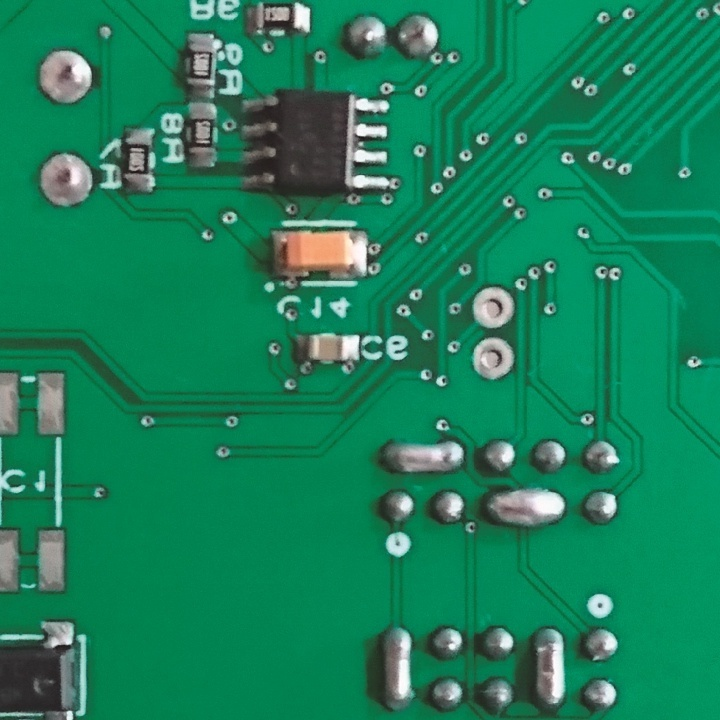F: (35, 149, 96, 213), (33, 48, 97, 107), (471, 336, 516, 383), (471, 281, 514, 330)
P: (480, 486, 569, 532), (377, 623, 417, 712), (374, 437, 464, 476), (529, 623, 568, 708)
